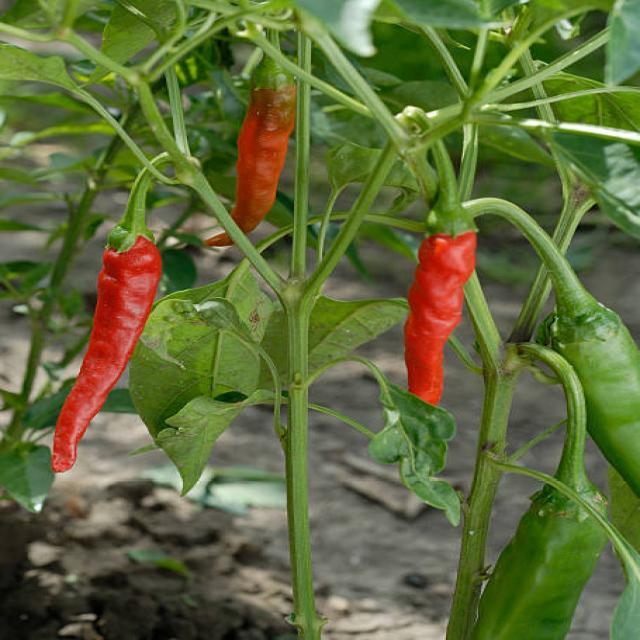Half-Ripe: (231, 61, 295, 232)
Ripe: (52, 235, 160, 471), (404, 232, 474, 405)
Unripe: (471, 486, 605, 639), (553, 323, 639, 496)
